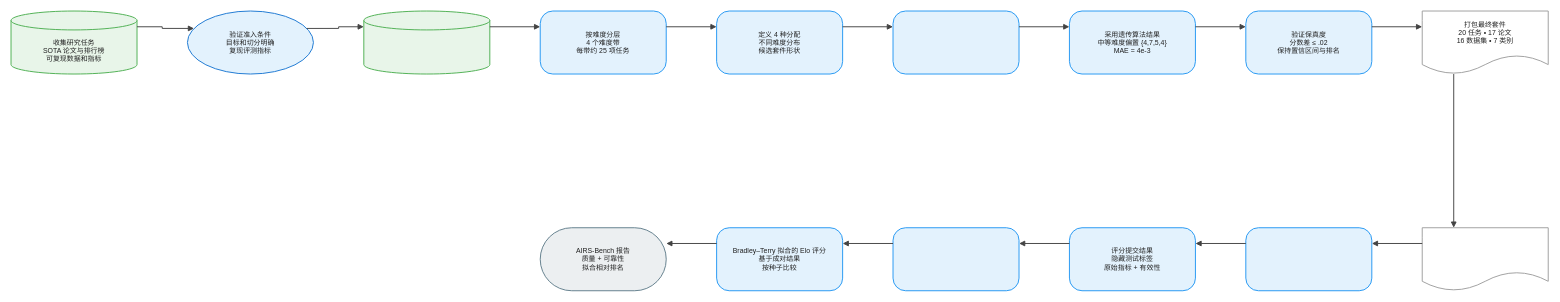
The diagram is 1560 pixels wide and 302 high, and some of its shapes have lost their labels. The shapes that lost their labels are listed below. From the top down, each one's centre as x and y in pixels, then its label:
At (x=426, y=42): "候选池 约 100 项任务 来自约 85 篇论文".
At (x=955, y=42): "搜索 12 种组合 随机搜索 10,000 次 模拟退火 + 遗传算法".
At (x=955, y=259): "汇总多次运行 任务归一化分数 置信区间".
At (x=1308, y=259): "运行研究代理 运行 24 小时 • 单张 H200 至少 10 个随机种子".
At (x=1484, y=259): "任务定义文件 prepare + evaluate 脚本 可选 utils.py 辅助文件".
